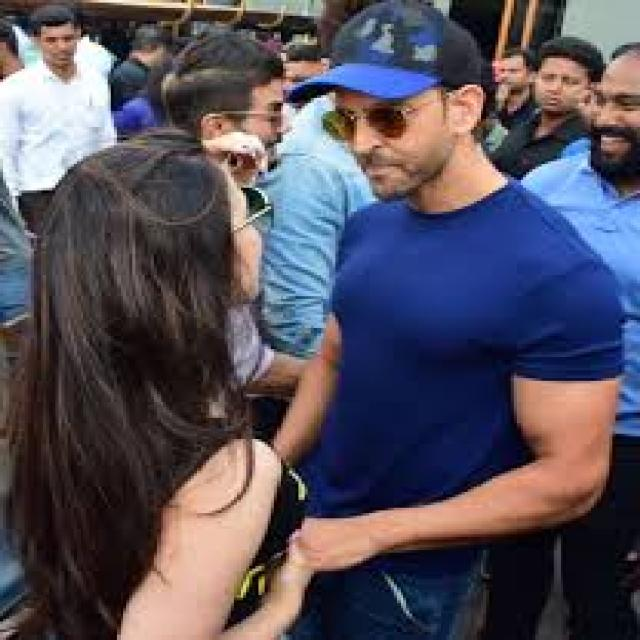cap: (274, 0, 486, 151)
